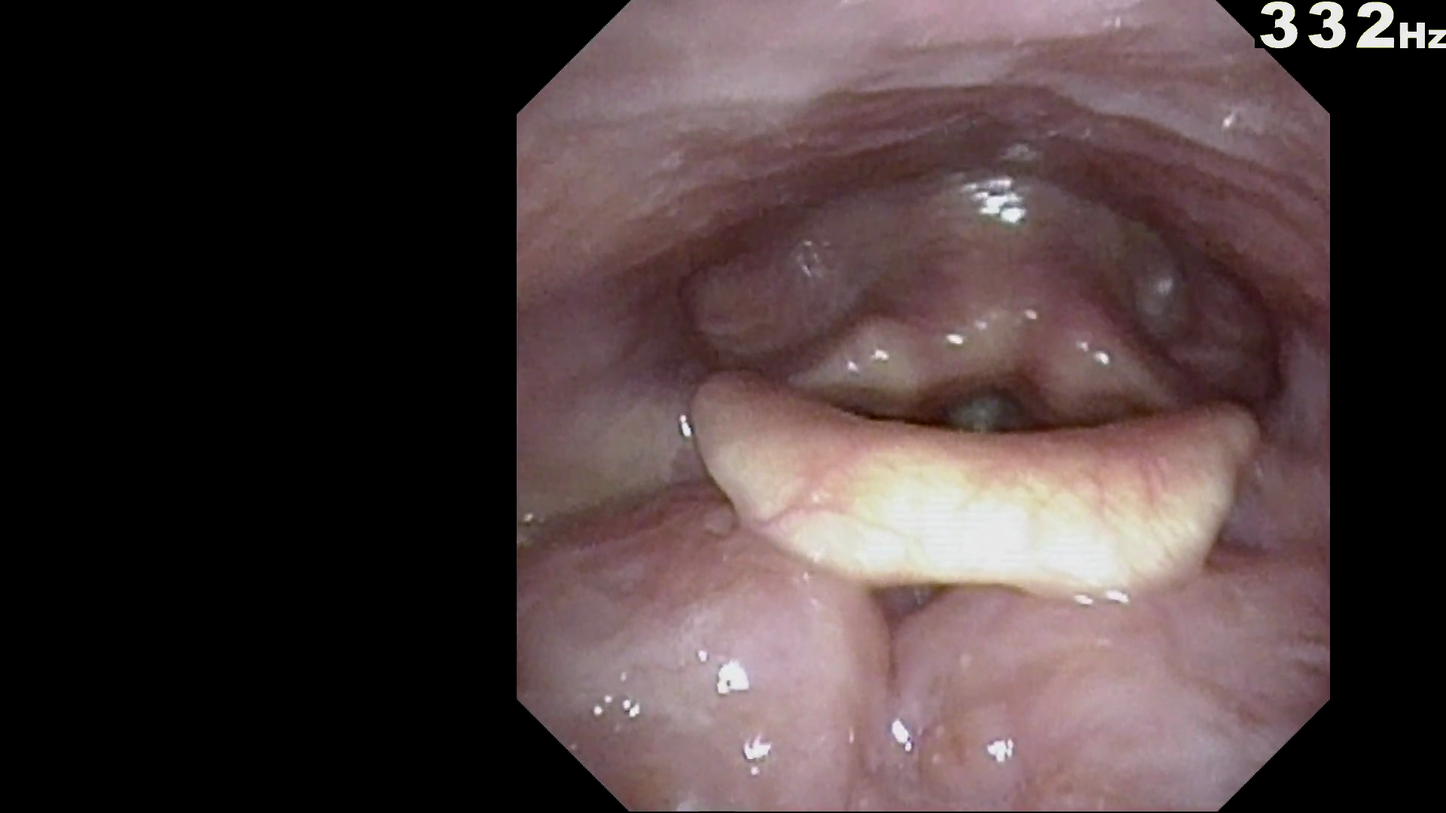epiglottis: (676, 356, 1278, 618)
trachea: (917, 328, 1064, 483)
